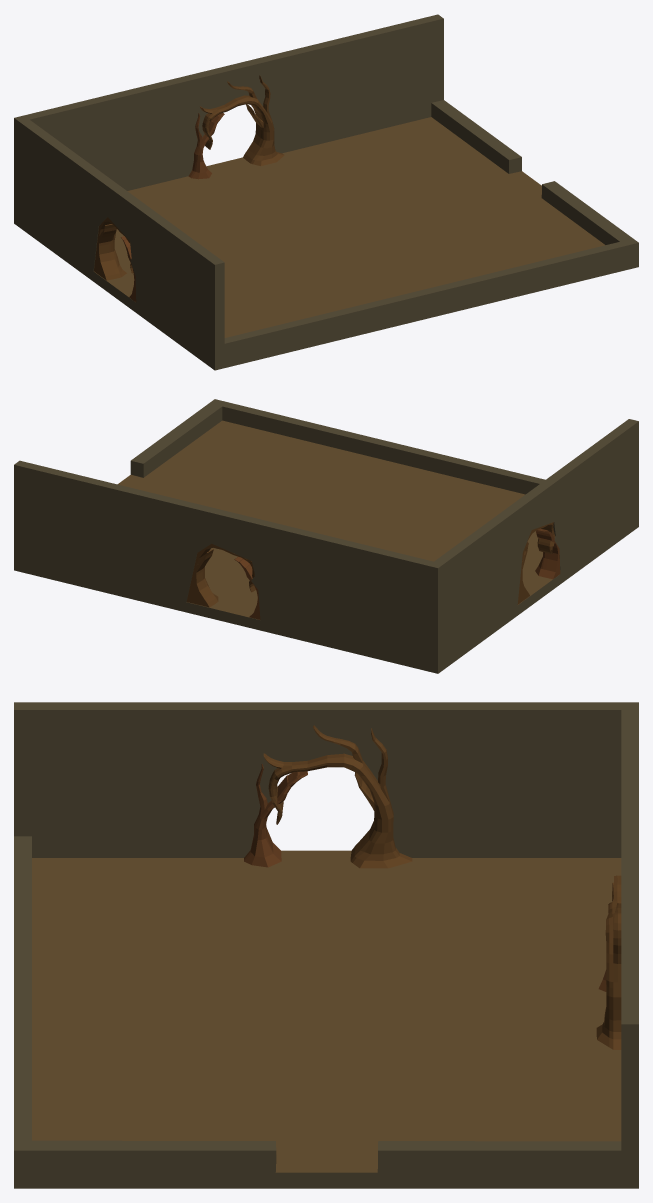
The model's file is salaGrandeDosPuertasNaturaleza.fbx.
3 views of the same model, one above another, from view 1: azimuth 30°, elevation 25°; view 2: azimuth 150°, elevation 25°; view 3: azimuth 270°, elevation 25° (orthographic). The views are drawn at different scales.
Parts seen in each view (by area): view 1: Cubo.019, Cubo.032, Cubo.022, Cubo.021, ARBOL.011; view 2: Cubo.019, Cubo.032, Cubo.022, ARBOL.008, Cubo.021; view 3: Cubo.032, Cubo.019, Cubo.021, Cubo.022, ARBOL.008.
Part boxes in pixels (bbox=[...]): Cubo.019: bbox=[14, 14, 638, 370]; Cubo.032: bbox=[94, 117, 605, 337]; Cubo.022: bbox=[200, 75, 284, 165]; Cubo.021: bbox=[94, 217, 133, 280]; ARBOL.011: bbox=[188, 113, 224, 179]; Cubo.019: bbox=[14, 399, 638, 673]; Cubo.032: bbox=[117, 420, 558, 619]; Cubo.022: bbox=[186, 543, 255, 607]; ARBOL.008: bbox=[535, 528, 560, 579]; Cubo.021: bbox=[517, 522, 555, 604]; Cubo.032: bbox=[32, 850, 621, 1172]; Cubo.019: bbox=[14, 702, 638, 1188]; Cubo.021: bbox=[263, 725, 412, 868]; Cubo.022: bbox=[596, 875, 621, 1049]; ARBOL.008: bbox=[244, 764, 307, 867].
Bounding box in the file's own units: 2560 × 609 × 2100.
